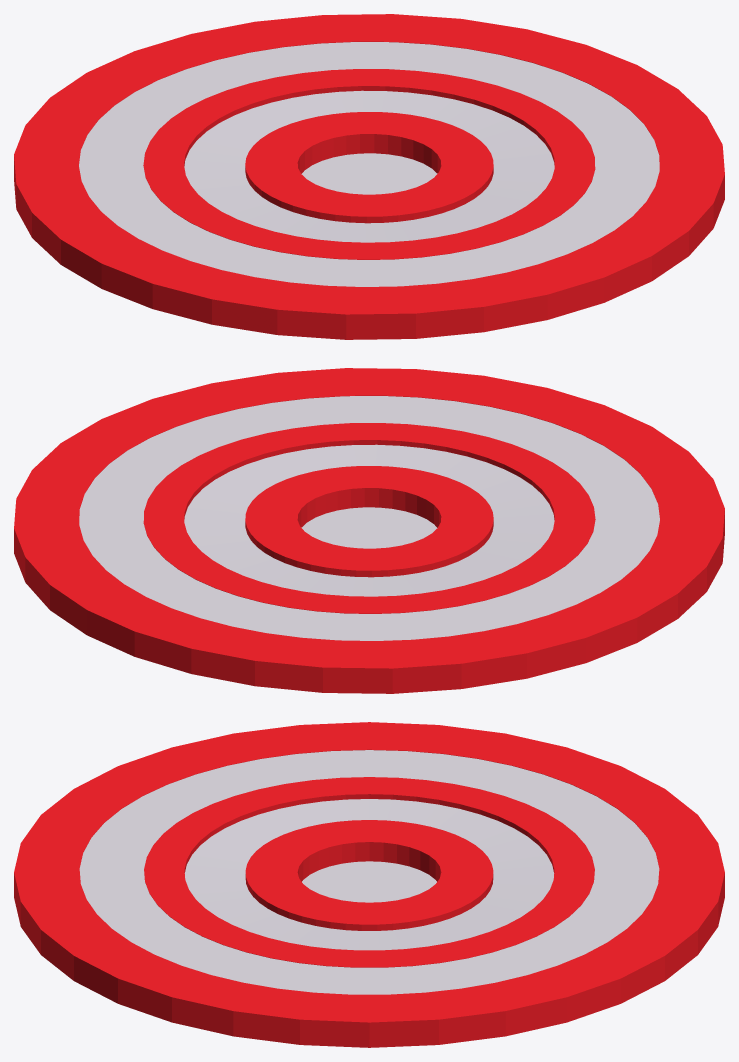
File: target.fbx
3 renders of one model, top to bottom at view 1: azimuth 30°, elevation 25°; view 2: azimuth 150°, elevation 25°; view 3: azimuth 270°, elevation 25°, orthographic.
Parts seen in each view (by area): view 1: Cylinder, Cylinder.001; view 2: Cylinder, Cylinder.001; view 3: Cylinder, Cylinder.001.
Boxes of the visible parts, <box> form: Cylinder: <box>14,14,724,339</box>; Cylinder.001: <box>79,42,659,286</box>; Cylinder: <box>14,368,724,693</box>; Cylinder.001: <box>79,396,659,640</box>; Cylinder: <box>14,722,724,1047</box>; Cylinder.001: <box>79,750,659,994</box>.
Size of the model in its own units: 9.19 by 0.5255 by 9.19.
